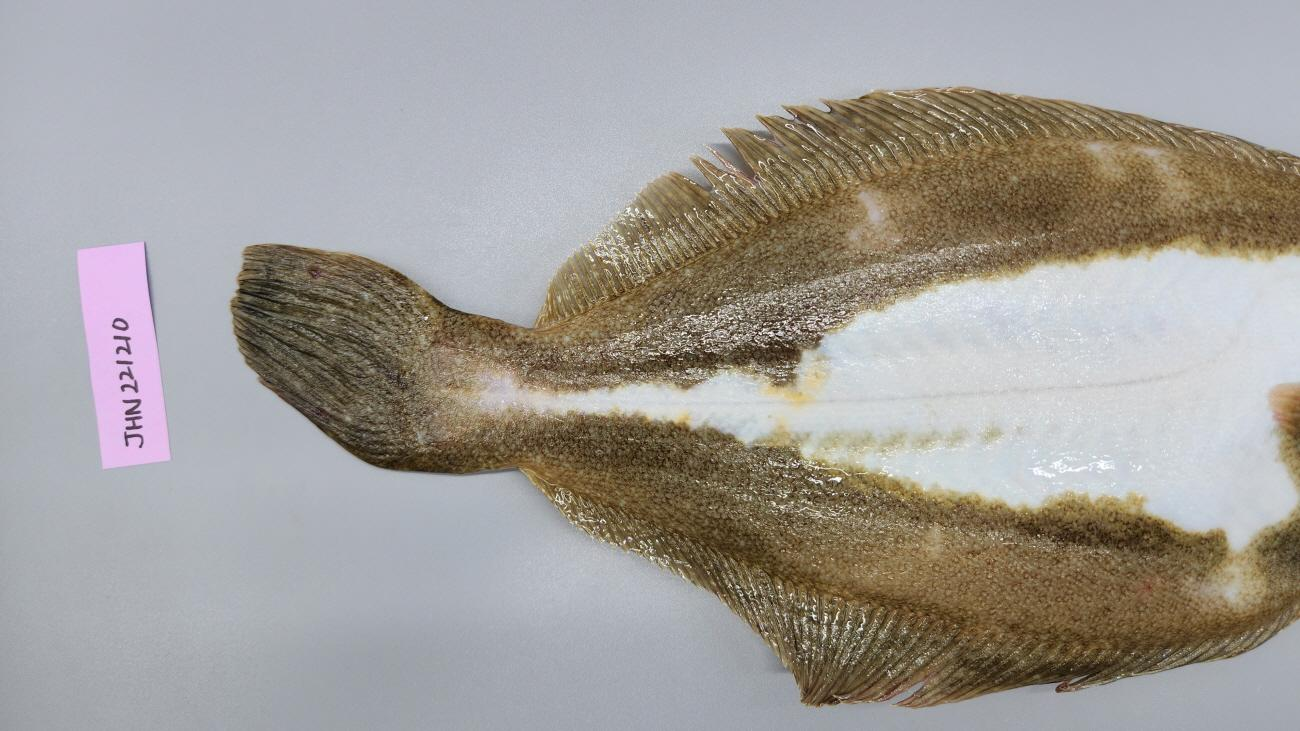POOUN: (228, 86, 1300, 714)
